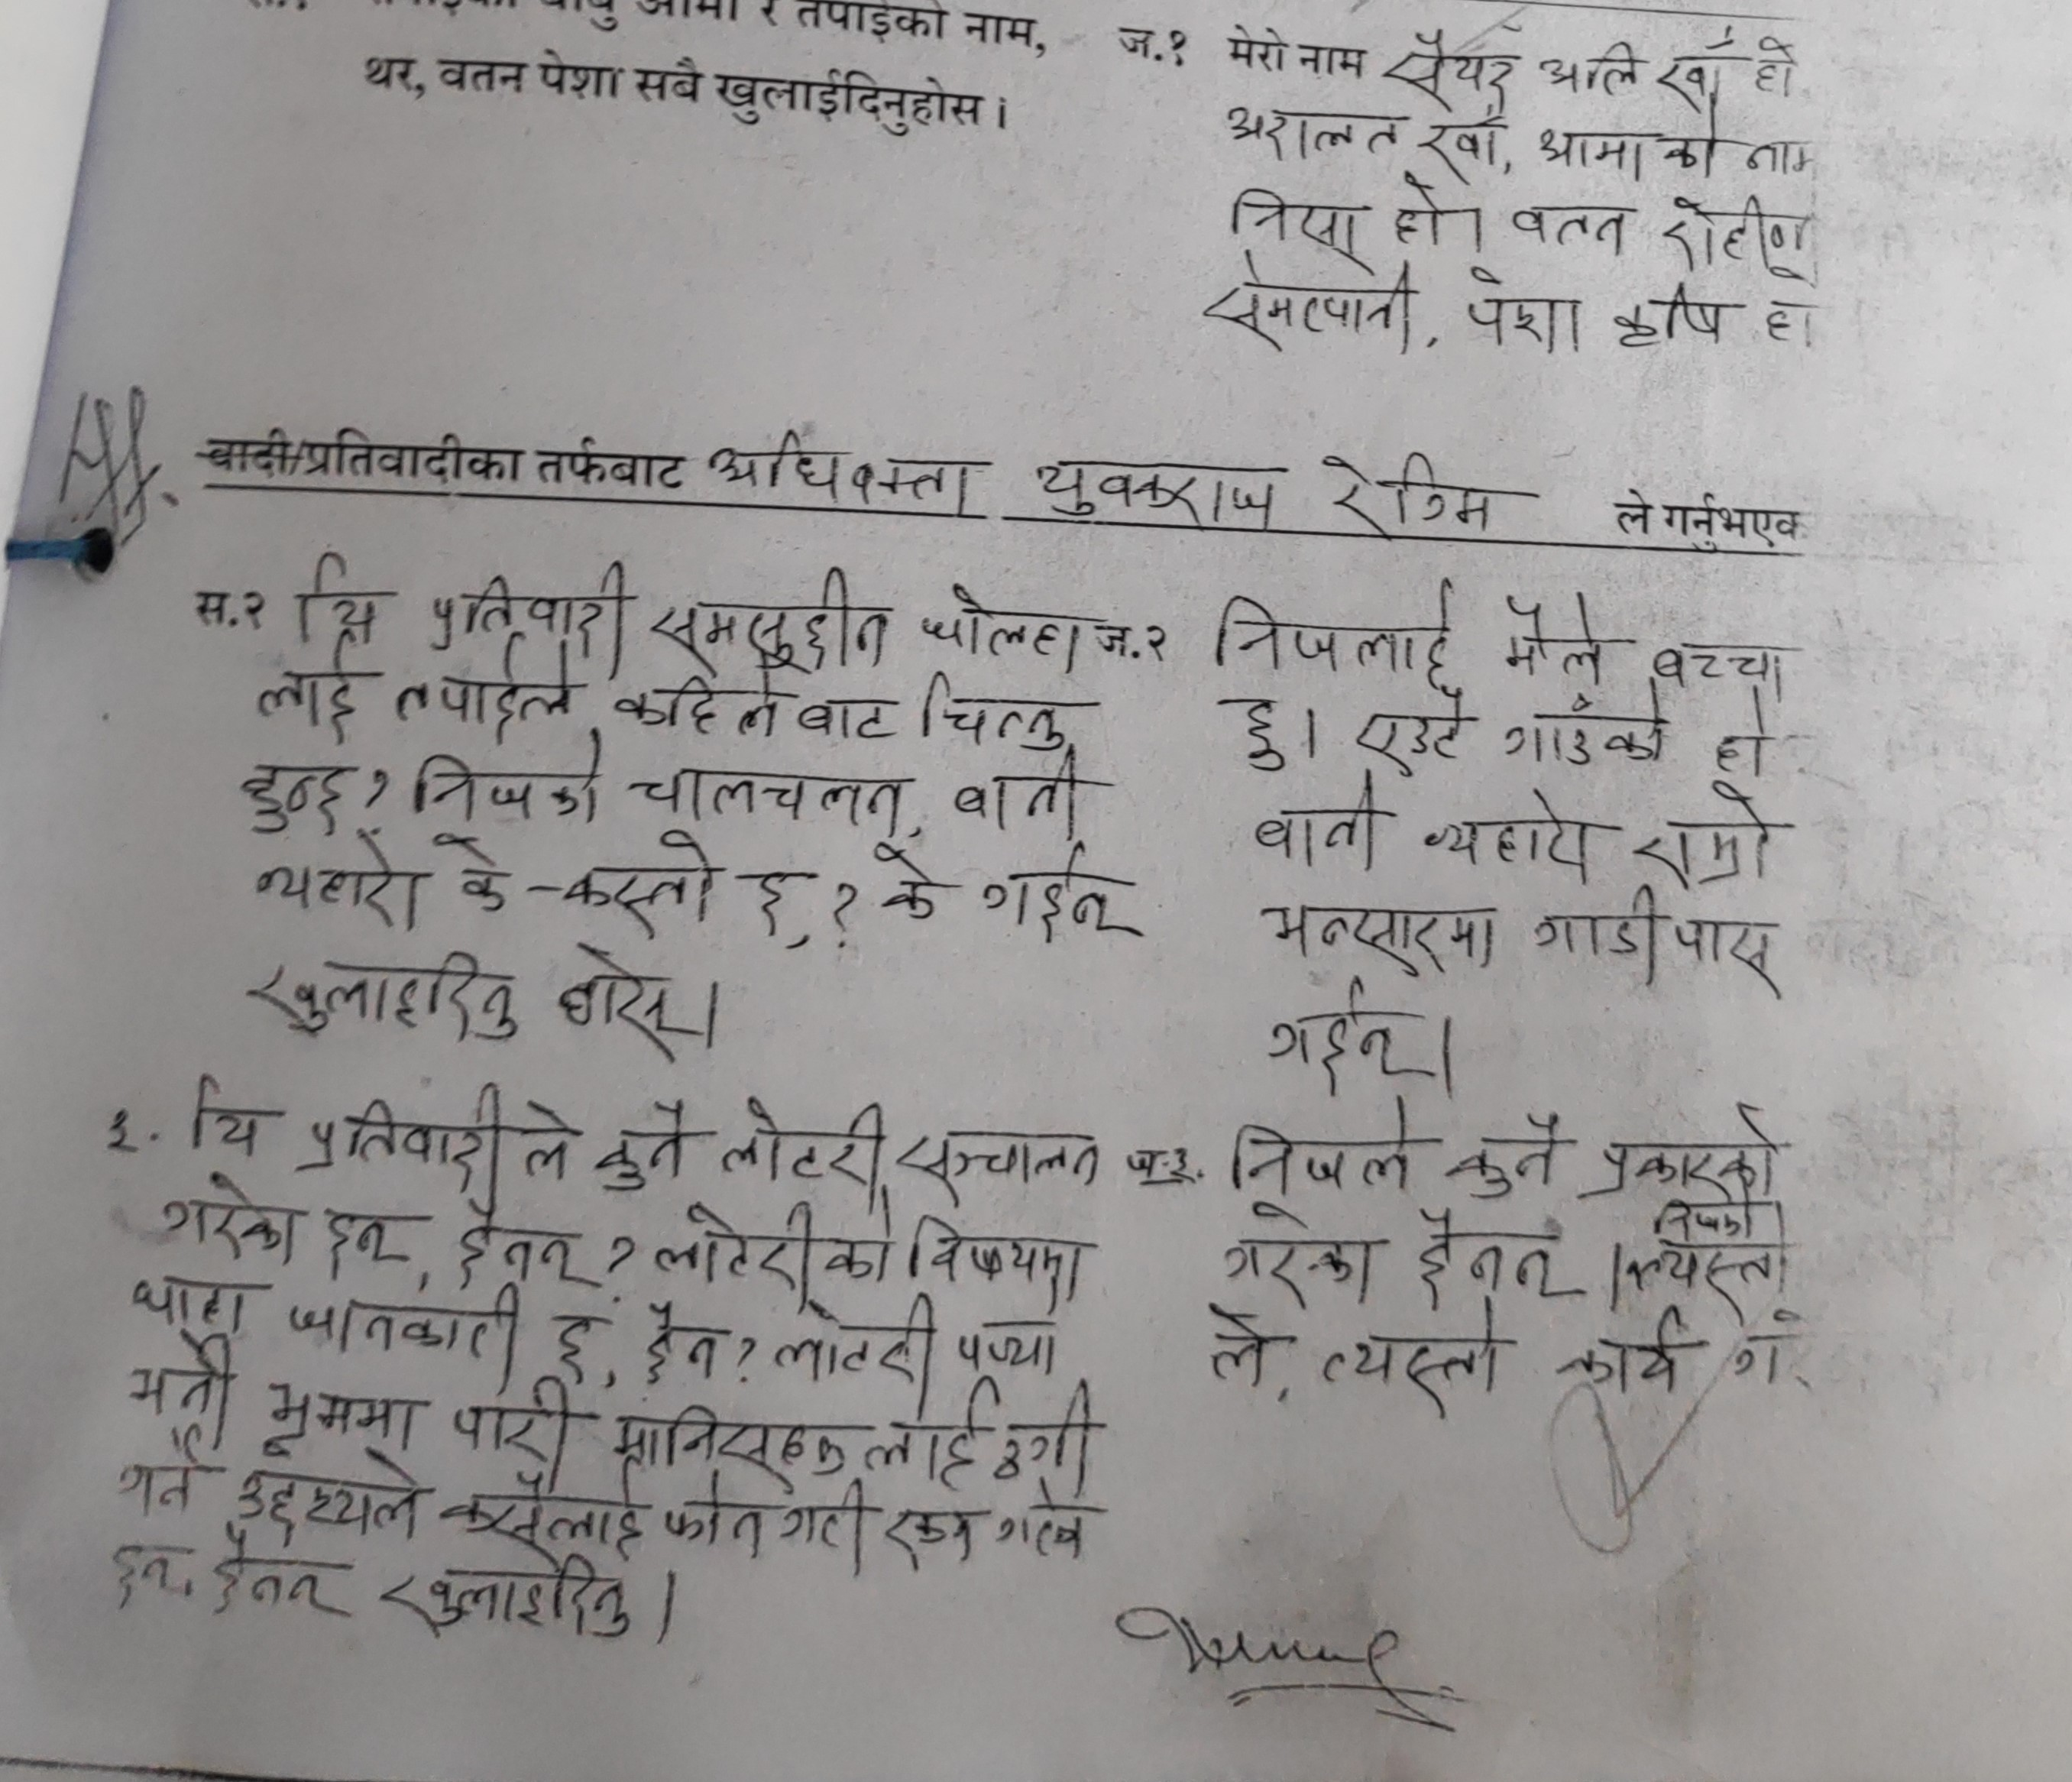text: (303, 1073, 573, 1192), (1209, 576, 1459, 693), (241, 948, 530, 1043), (613, 656, 895, 751), (1314, 1299, 1513, 1417), (1202, 254, 1427, 358), (650, 564, 890, 661), (294, 1276, 525, 1375), (699, 430, 987, 509), (652, 1199, 899, 1290), (379, 1553, 636, 1639), (627, 751, 911, 825), (407, 728, 615, 827), (1254, 897, 1506, 978), (1582, 1102, 1785, 1200), (1034, 449, 1283, 529), (604, 1400, 853, 1479), (430, 557, 631, 652), (435, 1472, 647, 1560), (1623, 779, 1787, 890), (557, 932, 696, 1063), (1410, 1202, 1580, 1308), (981, 844, 1154, 948), (391, 643, 578, 739), (1219, 1195, 1381, 1304), (1262, 978, 1418, 1091), (562, 825, 722, 934), (1311, 448, 1498, 541), (1420, 784, 1600, 880), (252, 841, 426, 938), (1232, 1098, 1415, 1190), (714, 1096, 892, 1188), (236, 1451, 421, 1539), (1529, 102, 1728, 180), (763, 1294, 943, 1377), (914, 580, 1085, 665), (1501, 689, 1672, 774), (1528, 878, 1660, 984), (914, 663, 1068, 753), (448, 1195, 592, 1290), (895, 1126, 1101, 1190), (906, 1213, 1085, 1283), (1249, 774, 1381, 869), (160, 1170, 300, 1260), (266, 1377, 423, 1456), (204, 1535, 347, 1622), (1454, 259, 1587, 351), (862, 1389, 990, 1484), (1656, 189, 1808, 268), (1563, 1308, 1691, 1400), (1498, 578, 1605, 687), (248, 643, 363, 746), (1223, 102, 1410, 164), (951, 753, 1082, 839), (990, 1382, 1101, 1481), (446, 1377, 580, 1458), (953, 1287, 1071, 1378), (1380, 25, 1519, 102), (1448, 1109, 1570, 1197), (1353, 677, 1468, 770), (122, 1331, 236, 1422), (109, 1422, 210, 1526), (1225, 185, 1369, 257), (236, 754, 351, 843), (777, 1477, 872, 1581), (659, 1468, 766, 1558), (592, 1098, 692, 1193), (1609, 280, 1734, 356), (1647, 631, 1790, 694), (990, 1479, 1092, 1567), (867, 839, 958, 931), (1669, 913, 1778, 989), (636, 1299, 731, 1385), (125, 1273, 252, 1336), (291, 550, 381, 638), (321, 1202, 416, 1285), (1658, 21, 1739, 115), (1420, 100, 1503, 190), (430, 828, 511, 920), (1506, 201, 1633, 259), (883, 1498, 980, 1574), (185, 1070, 264, 1162), (1223, 691, 1291, 784), (1538, 37, 1642, 99), (1205, 1301, 1277, 1387), (1709, 694, 1776, 776), (1755, 268, 1820, 347), (107, 1541, 180, 1608), (1388, 174, 1450, 252), (749, 865, 802, 947), (1753, 30, 1804, 104), (1743, 132, 1817, 178), (546, 1299, 590, 1368)
